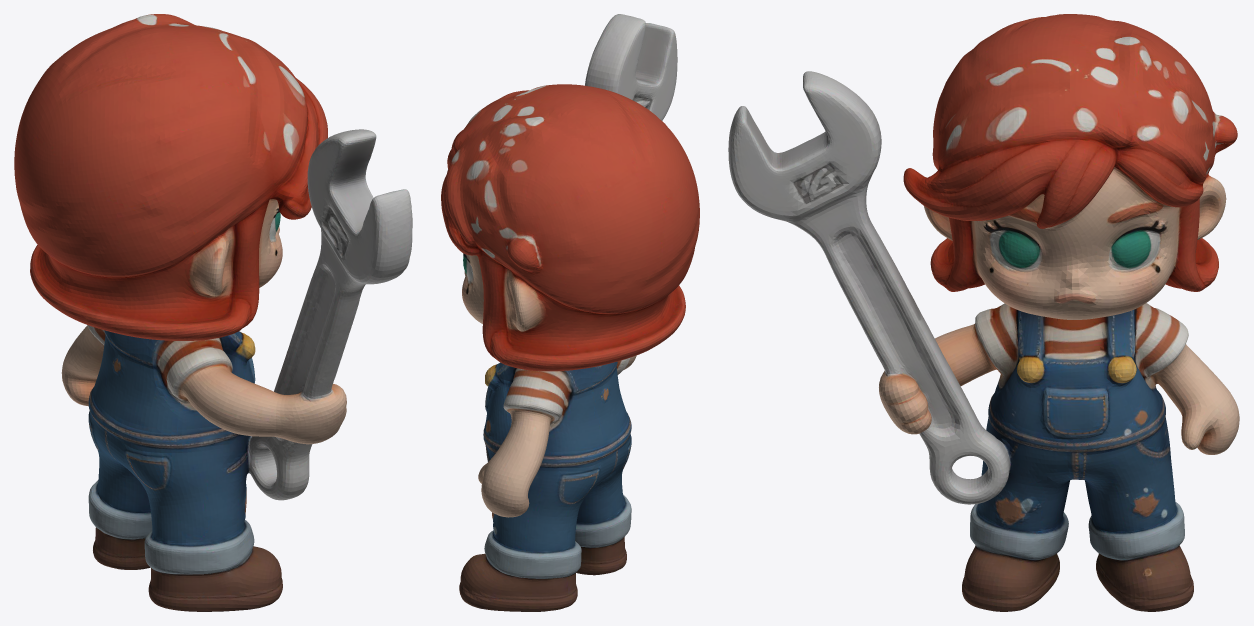
Rendered from female-02.glb.
3 renders of one model, left to right at view 1: azimuth 30°, elevation 25°; view 2: azimuth 150°, elevation 25°; view 3: azimuth 270°, elevation 25°, orthographic. The views are drawn at different scales.
Visible parts, largest first — view 1: tripo_node_bfaf70b6-67e7-44be-963d-62233a3eaff5; view 2: tripo_node_bfaf70b6-67e7-44be-963d-62233a3eaff5; view 3: tripo_node_bfaf70b6-67e7-44be-963d-62233a3eaff5.
Part boxes in pixels (box(x1,y1,x2,y2)): tripo_node_bfaf70b6-67e7-44be-963d-62233a3eaff5: box(14, 14, 412, 611); tripo_node_bfaf70b6-67e7-44be-963d-62233a3eaff5: box(441, 14, 699, 611); tripo_node_bfaf70b6-67e7-44be-963d-62233a3eaff5: box(728, 14, 1239, 611).
Bounding box in the file's own units: 0.5055 × 0.9996 × 0.8456.
1 material, 1 textured.
